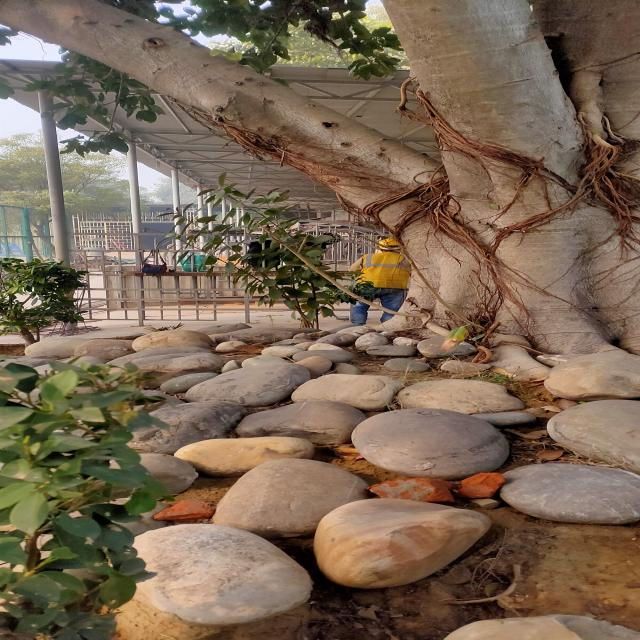safe: (337, 239, 420, 326)
